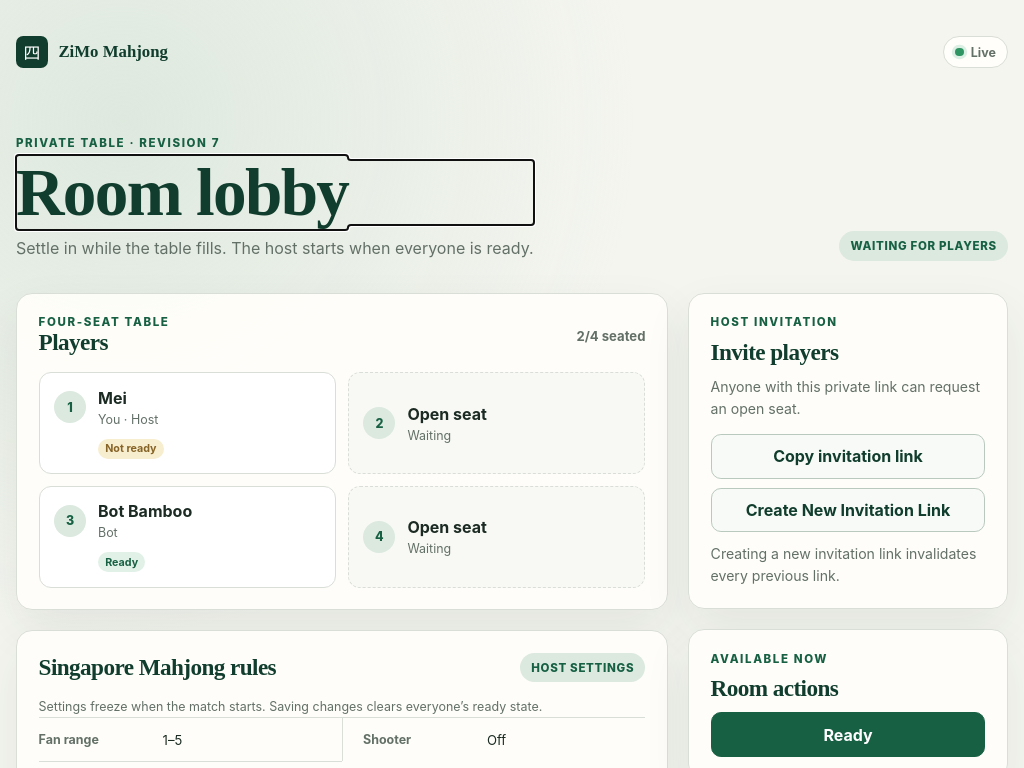
Test: room UI › refetches a conflict and ignores a later stale socket revision
The width and height of the screenshot is (1024, 768).
Click the button "Ready": (848, 735) [711,712,985,757]
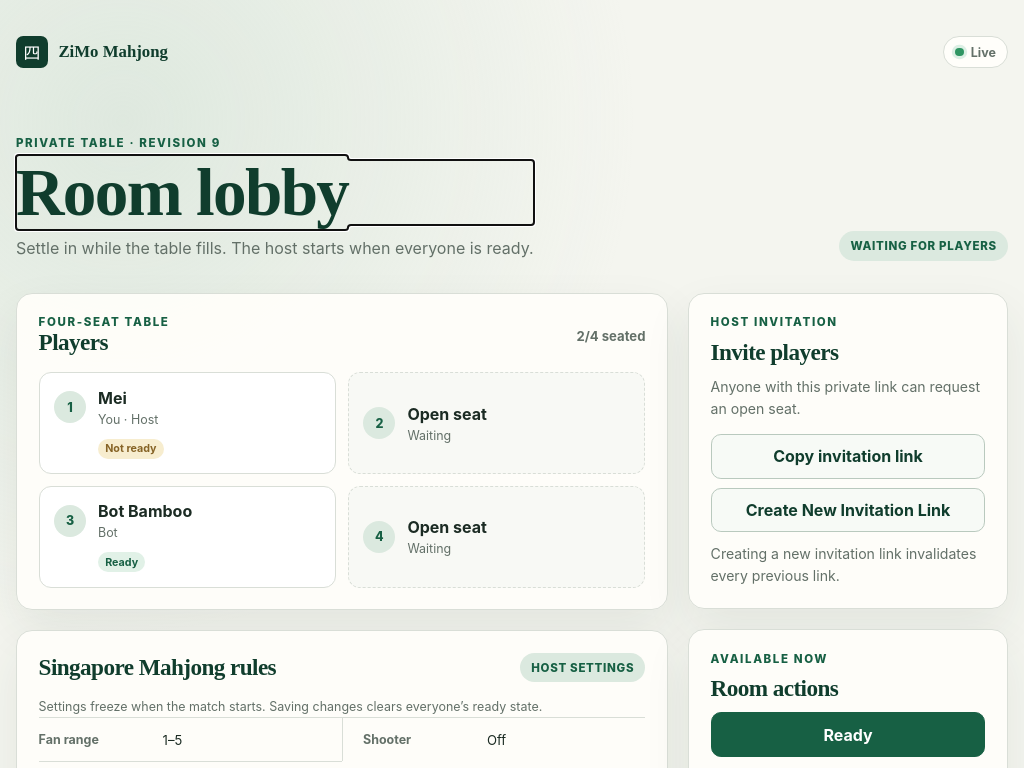
Expected: the text "Revision 9" is shown, [16,136,221,150]
